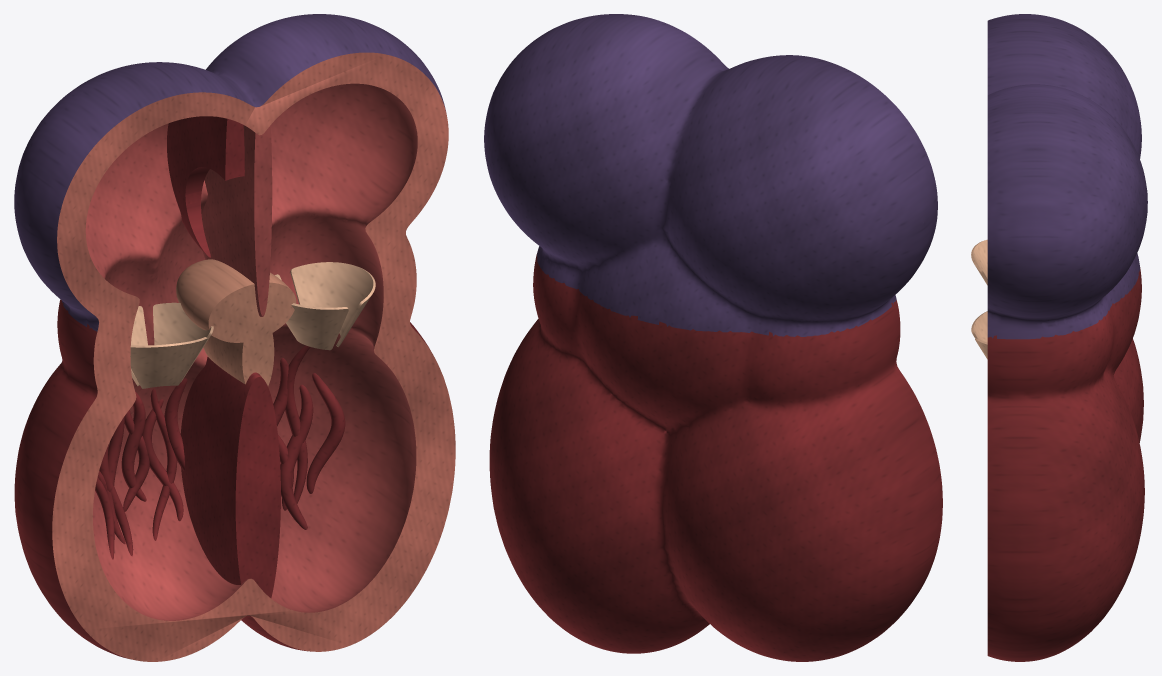
Rendered from HeartPartition_03_Week07_VentricularClosure_Cutaway.glb.
3 renders of one model, left to right at view 1: azimuth 30°, elevation 25°; view 2: azimuth 150°, elevation 25°; view 3: azimuth 270°, elevation 25°, orthographic. The views are drawn at different scales.
Parts seen in each view (by area): view 1: VentricularWall_Posterior, AtrialWall_Posterior, MuscularInterventricularSeptum, SeptumPrimum, SeptumSecundum, VentralEndocardialCushion, Mitral_Leaflet_1, Tricuspid_Leaflet_3, MembranousSeptalClosure, Mitral_Leaflet_2, DorsalEndocardialCushion, Tricuspid_Leaflet_1 (+11 smaller); view 2: VentricularWall_Posterior, AtrialWall_Posterior; view 3: VentricularWall_Posterior, AtrialWall_Posterior, Tricuspid_Leaflet_3, Mitral_Leaflet_2.
Part boxes in pixels (x1,y1,x2,y2): VentricularWall_Posterior: (14, 235, 455, 661); AtrialWall_Posterior: (14, 14, 448, 334); MuscularInterventricularSeptum: (180, 357, 280, 598); SeptumPrimum: (201, 125, 272, 316); SeptumSecundum: (167, 116, 244, 257); VentralEndocardialCushion: (193, 273, 296, 342); Mitral_Leaflet_1: (290, 262, 375, 347); Tricuspid_Leaflet_3: (130, 337, 207, 388); MembranousSeptalClosure: (203, 333, 274, 385); Mitral_Leaflet_2: (275, 274, 348, 350); DorsalEndocardialCushion: (176, 259, 274, 325); Tricuspid_Leaflet_1: (153, 302, 213, 382); VentricularWall_Posterior: (489, 255, 942, 661); AtrialWall_Posterior: (484, 14, 937, 339); VentricularWall_Posterior: (987, 269, 1144, 661); AtrialWall_Posterior: (987, 14, 1147, 341); Tricuspid_Leaflet_3: (971, 239, 987, 285); Mitral_Leaflet_2: (971, 311, 987, 342).
Bounding box in the file's own units: 0.1421 × 0.2013 × 0.0579.
6 materials, 6 textured.
